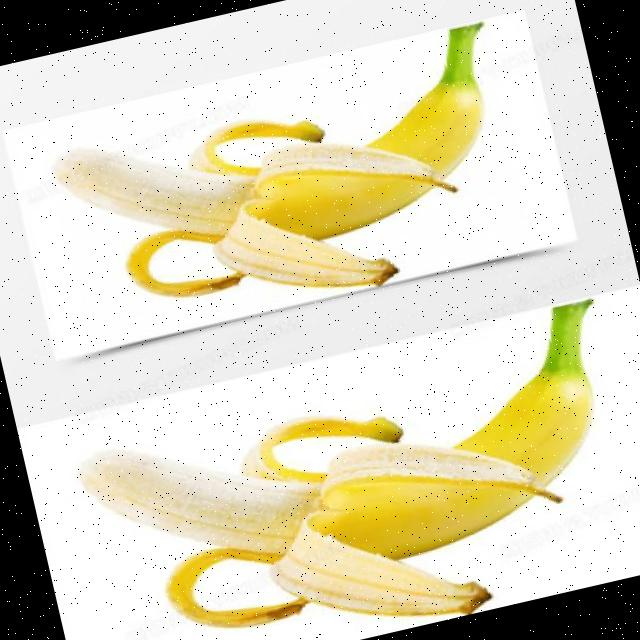banana-peel: (64, 296, 640, 640), (40, 19, 536, 352)
